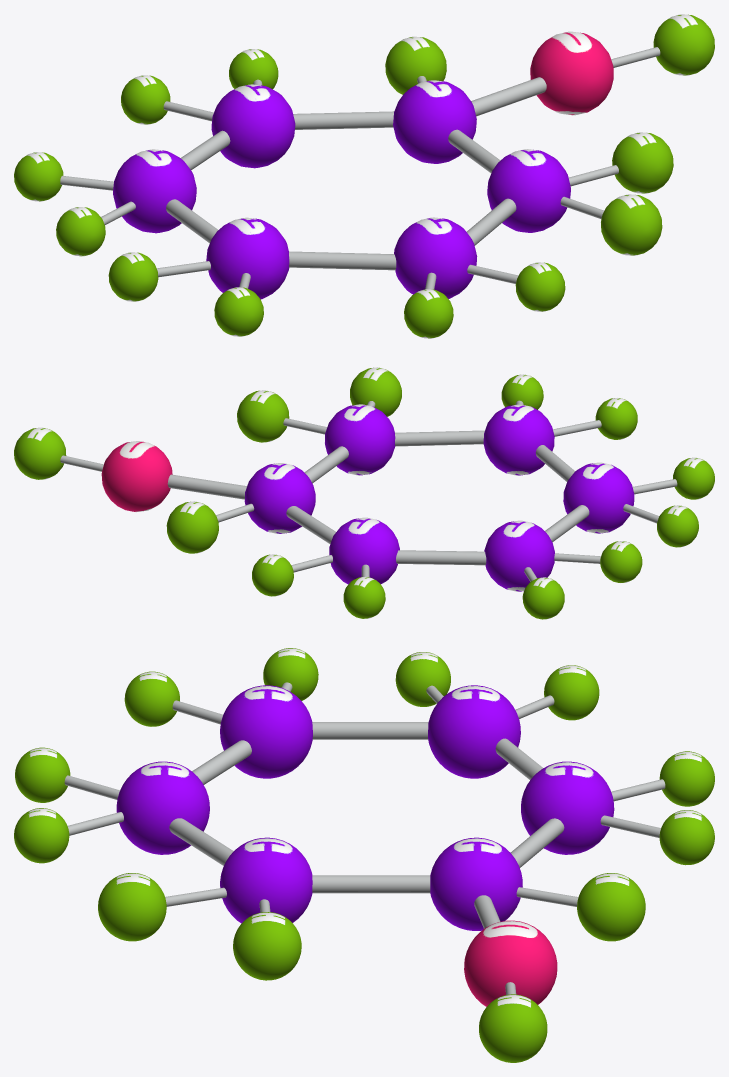
File: SM_Molecule_3.fbx
3 views of the same model, one above another, from view 1: azimuth 30°, elevation 25°; view 2: azimuth 150°, elevation 25°; view 3: azimuth 270°, elevation 25° (orthographic). The views are drawn at different scales.
Visible parts, largest first — view 1: SM_Molecule_3; view 2: SM_Molecule_3; view 3: SM_Molecule_3.
Part boxes in pixels (x1,y1,x2,y2): SM_Molecule_3: (14,14,714,338); SM_Molecule_3: (14,367,714,619); SM_Molecule_3: (14,648,714,1062).
Size of the model in its own units: 530 by 54.79 by 414.
Materials: 4 (4 with a texture image).
